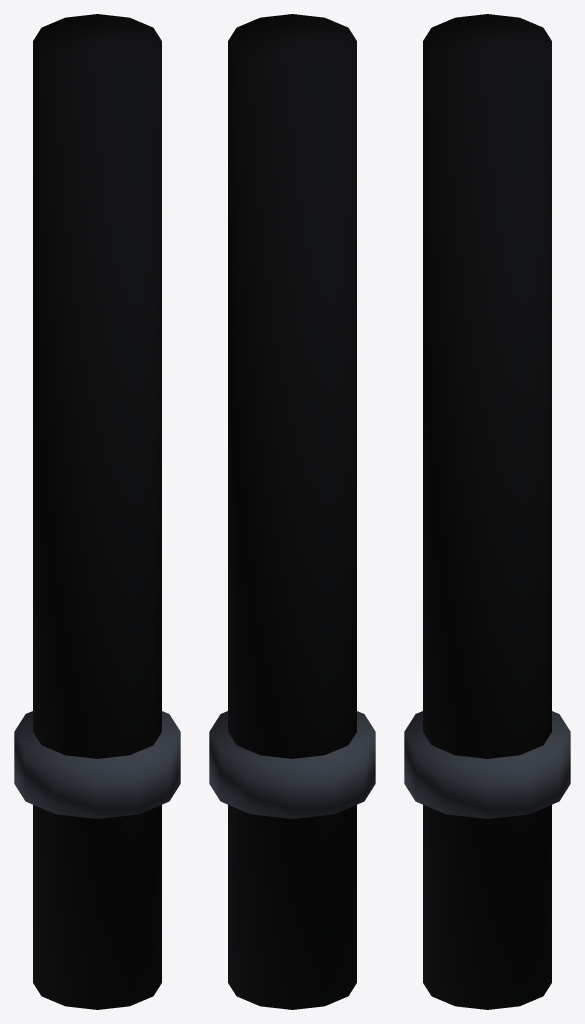
The model's file is police-baton.glb.
3 views of the same model, side by side, from view 1: azimuth 30°, elevation 25°; view 2: azimuth 150°, elevation 25°; view 3: azimuth 270°, elevation 25° (orthographic).
Parts seen in each view (by area): view 1: police-baton; view 2: police-baton; view 3: police-baton.
Boxes of the visible parts, left/top/right/bottom form: police-baton: left=14, top=14, right=180, bottom=1009; police-baton: left=209, top=14, right=375, bottom=1009; police-baton: left=404, top=14, right=570, bottom=1009.
Size of the model in its own units: 0.072 by 0.45 by 0.072.
1 material, 1 textured.
